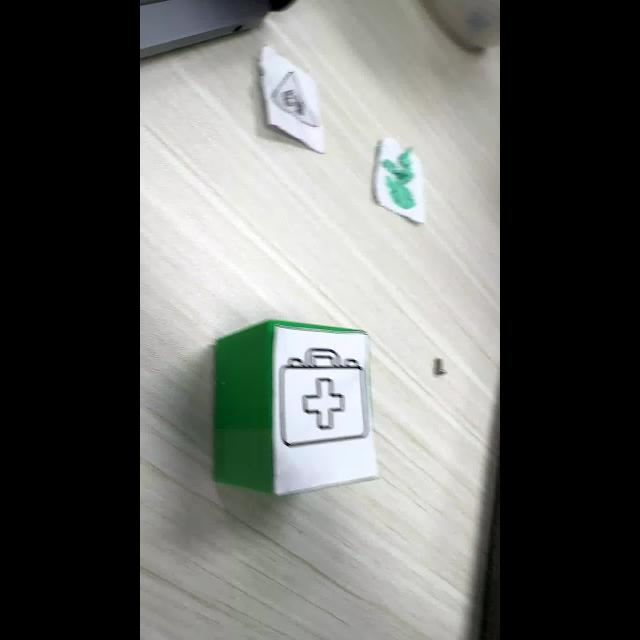Medkit: (277, 349, 369, 448)
